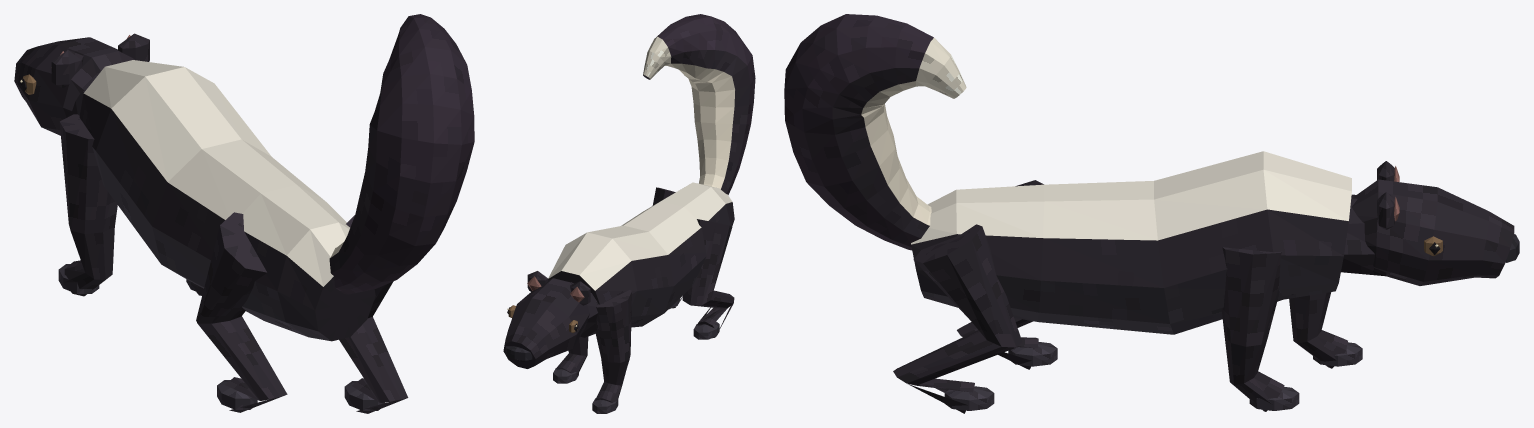
The model's file is mon_skunk.glb.
3 views of the same model, side by side, from view 1: azimuth 30°, elevation 25°; view 2: azimuth 150°, elevation 25°; view 3: azimuth 270°, elevation 25° (orthographic). The views are drawn at different scales.
Parts seen in each view (by area): view 1: closed_body; view 2: closed_body; view 3: closed_body.
Boxes of the visible parts, box(x1,y1,x2,y2) form: closed_body: box(14, 14, 474, 413); closed_body: box(503, 14, 755, 413); closed_body: box(784, 14, 1519, 413).
Size of the model in its own units: 0.1869 by 0.4485 by 0.7456.
Materials: 1 (1 with a texture image).
